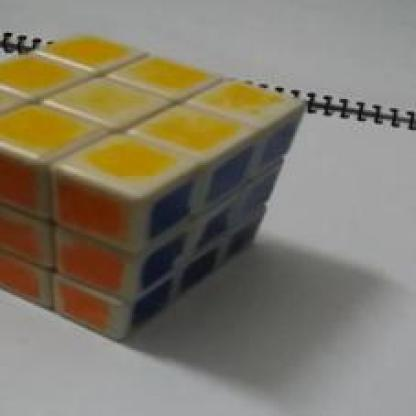cube: (7, 27, 295, 356)
